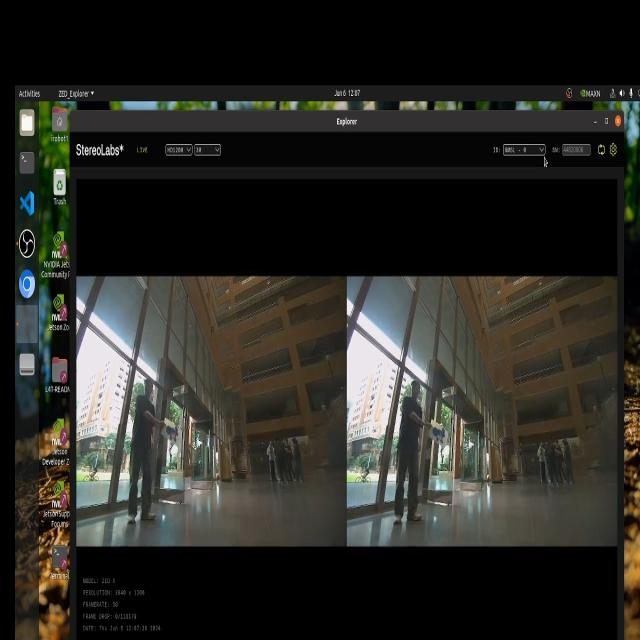blue: (158, 420, 186, 444), (431, 419, 448, 444)
